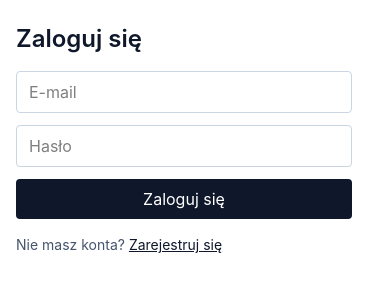
Test: LoginPage › shows a validation error for an invalid email
Type "not-an-email" into the field with placeholder "E-mail" at (184, 92), box [16, 71, 352, 113]
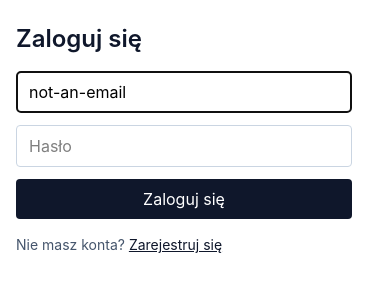
Type "password" into the password field with placeholder "Hasło" at (184, 146), box [16, 125, 352, 167]
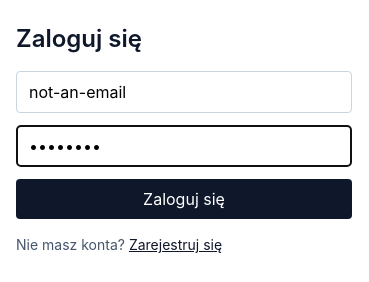
Click the button "Zaloguj się" at (184, 199), box [16, 179, 352, 219]
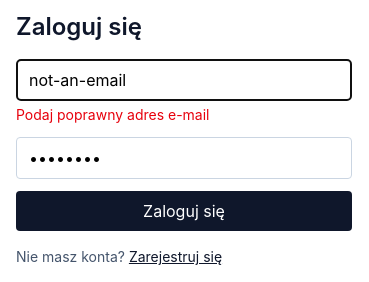
expect the text "Podaj poprawny adres e-mail" is shown: met, box [16, 106, 210, 123]
